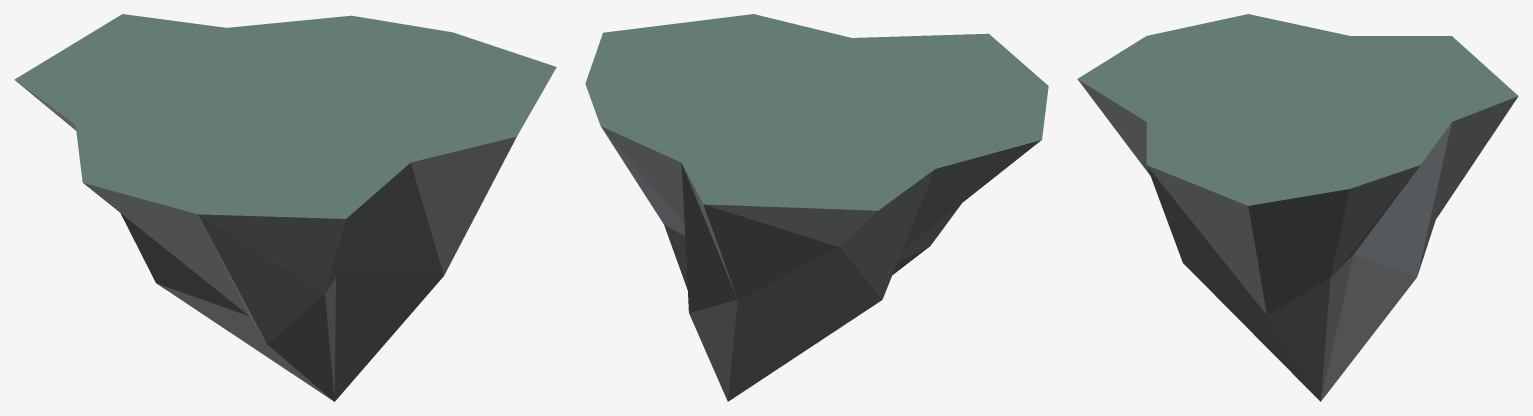
File: island01.fbx
3 views of the same model, side by side, from view 1: azimuth 30°, elevation 25°; view 2: azimuth 150°, elevation 25°; view 3: azimuth 270°, elevation 25° (orthographic). The views are drawn at different scales.
Parts seen in each view (by area): view 1: pPlane1; view 2: pPlane1; view 3: pPlane1.
Part boxes in pixels (box(x1,y1,x2,y2)): pPlane1: box(14, 14, 556, 401); pPlane1: box(585, 14, 1048, 401); pPlane1: box(1077, 14, 1518, 401).
Size of the model in its own units: 0.0446 by 0.0291 by 0.0434.
